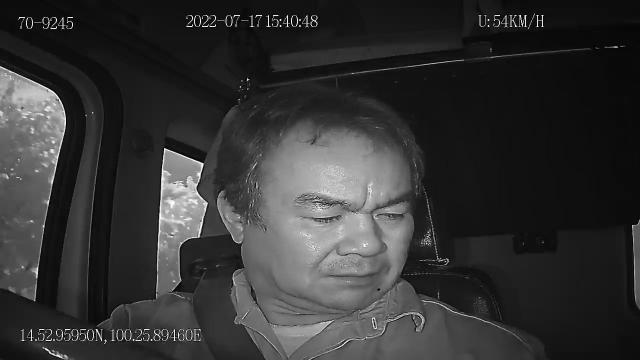SafeDriving: (294, 202, 349, 229), (366, 199, 414, 226)
Seatbelt: (191, 262, 269, 360)
